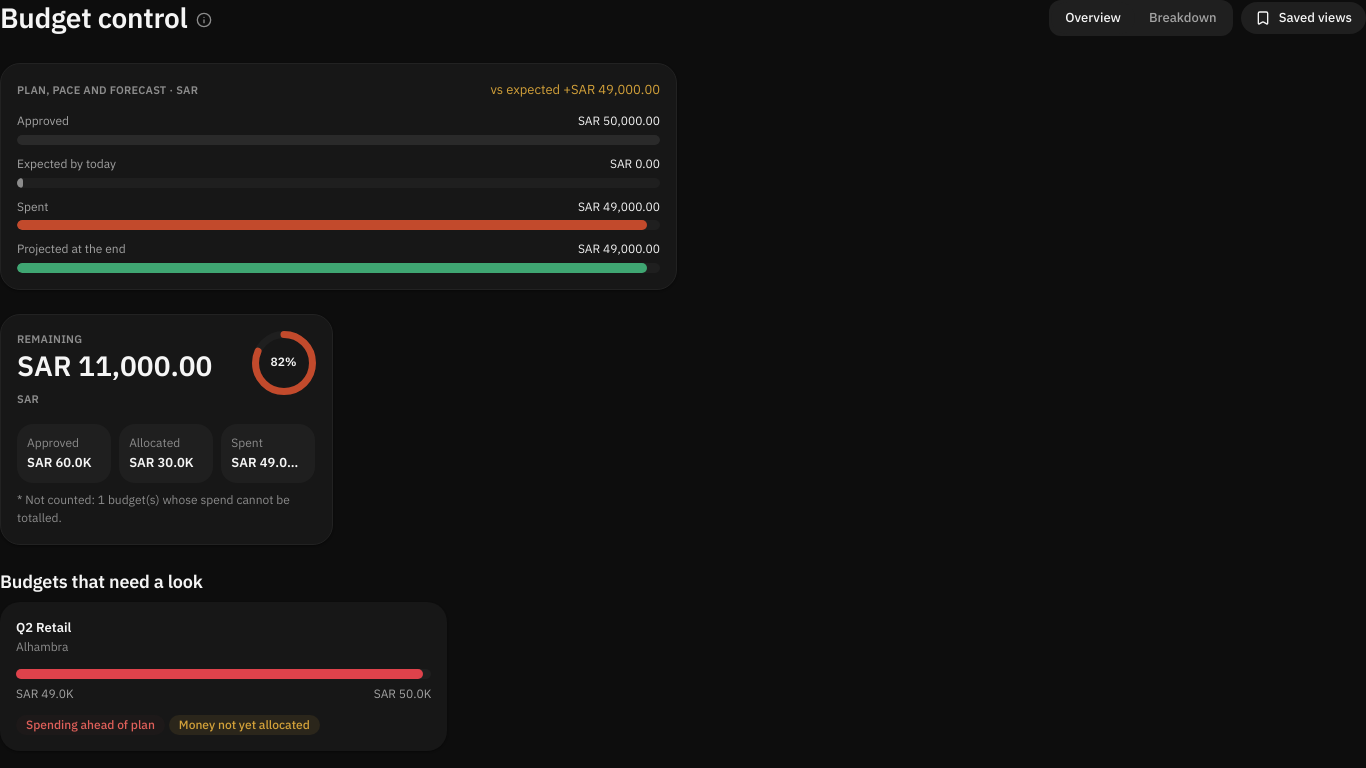
Test: BudgetControlPage › explains a spend it could not total instead of showing zero
The width and height of the screenshot is (1366, 768).
Click the button "Breakdown".
click(1183, 18)  # box [1135, 2, 1231, 34]
(page scrolled)
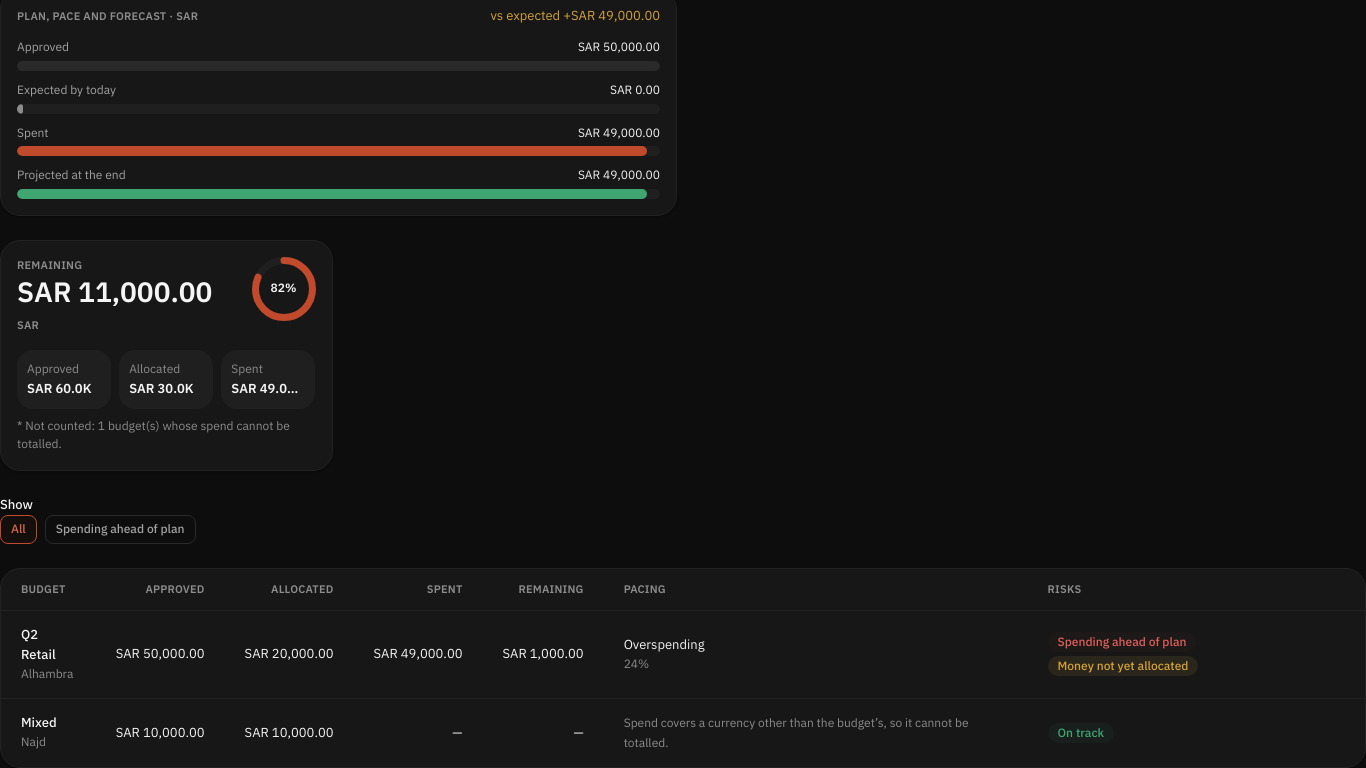
Expected: the text "—" is shown 2 times, [452, 723, 462, 742]; [482, 698, 604, 767]
Now the text "cannot be totalled" is shown, box [624, 714, 968, 752]
